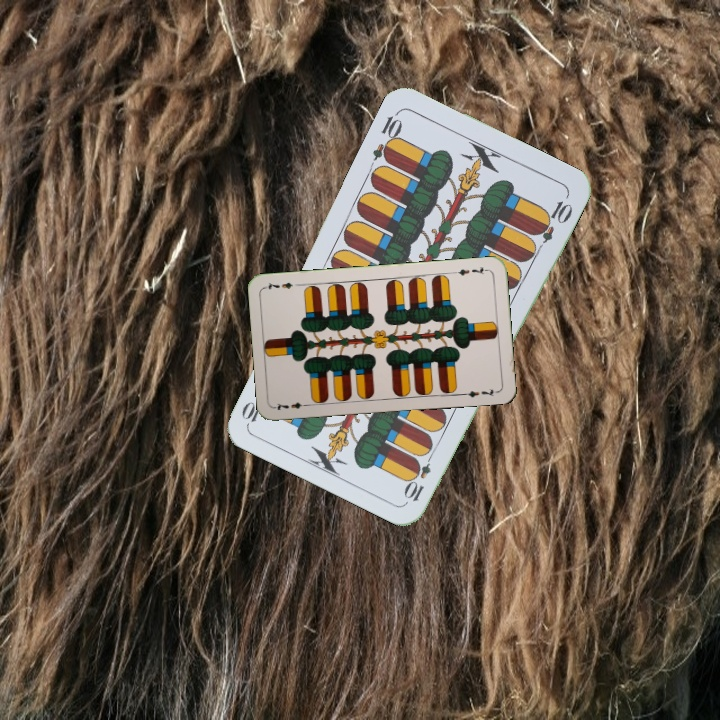E10: (368, 107, 405, 165), (402, 447, 437, 504)
E7: (450, 263, 491, 278), (271, 398, 312, 413)
